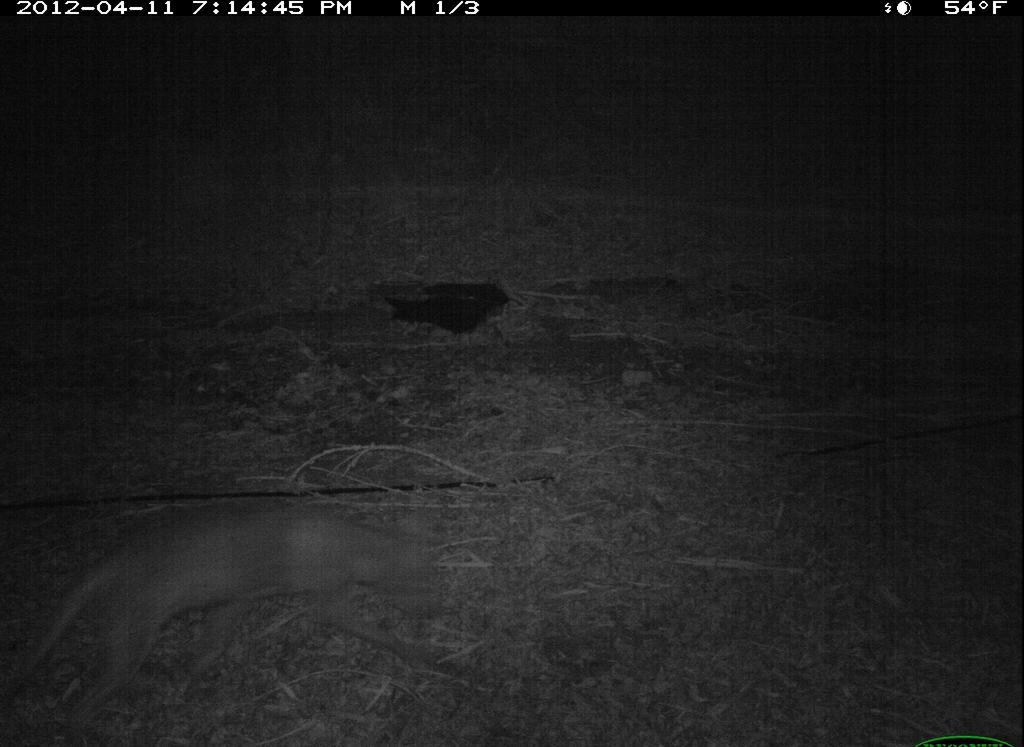coyote: (12, 481, 450, 729)
